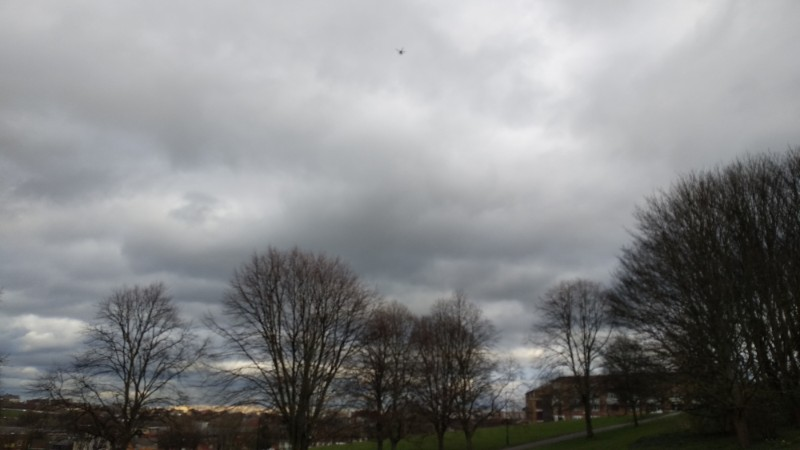drone: (395, 47, 407, 55)
